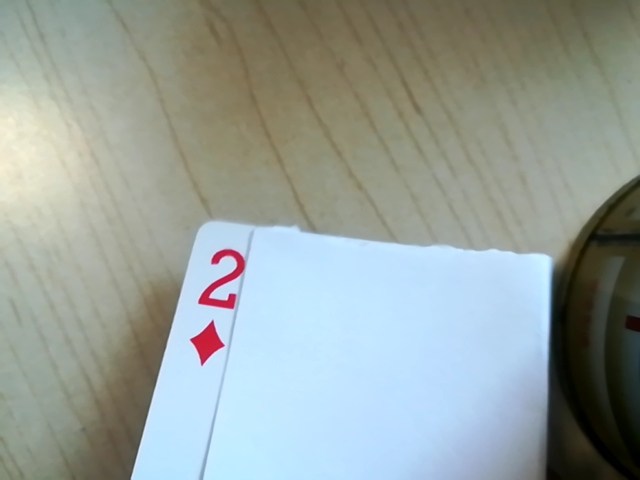fk 2: (183, 239, 255, 369)
